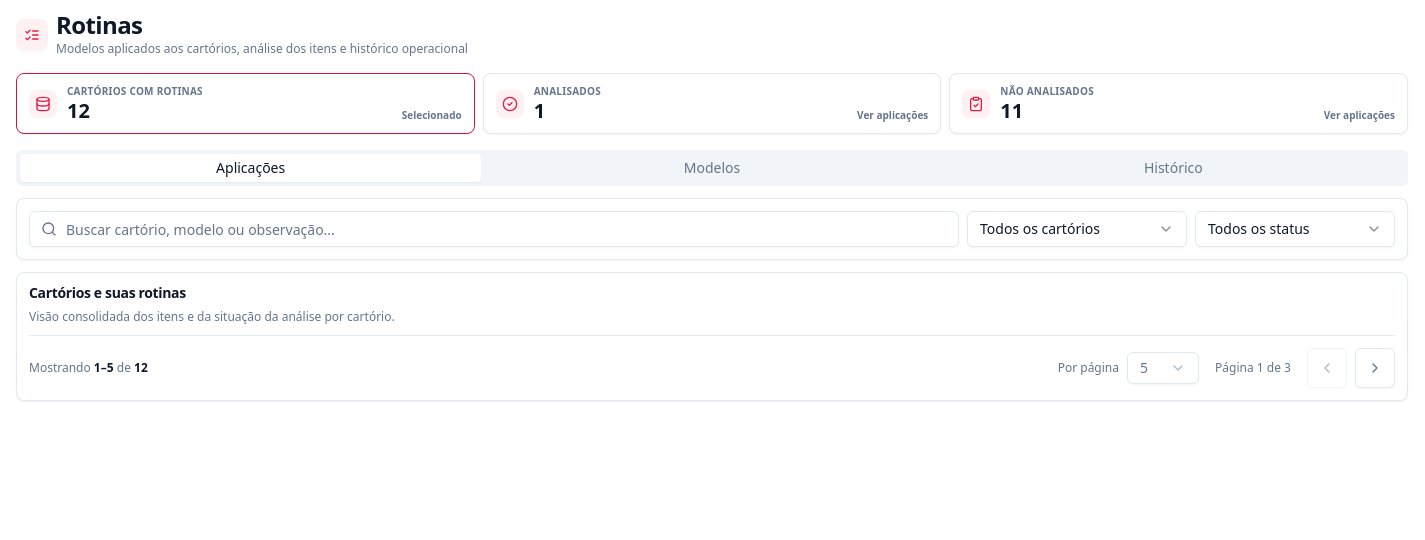
Test: CS/CX rotinas — permissões › abre as aplicações não analisadas pelo card
This screenshot has width=1425, height=540.
Press the mouse on the tab "Modelos" at x=712, y=168, box x1=481 y1=154 x2=943 y2=182
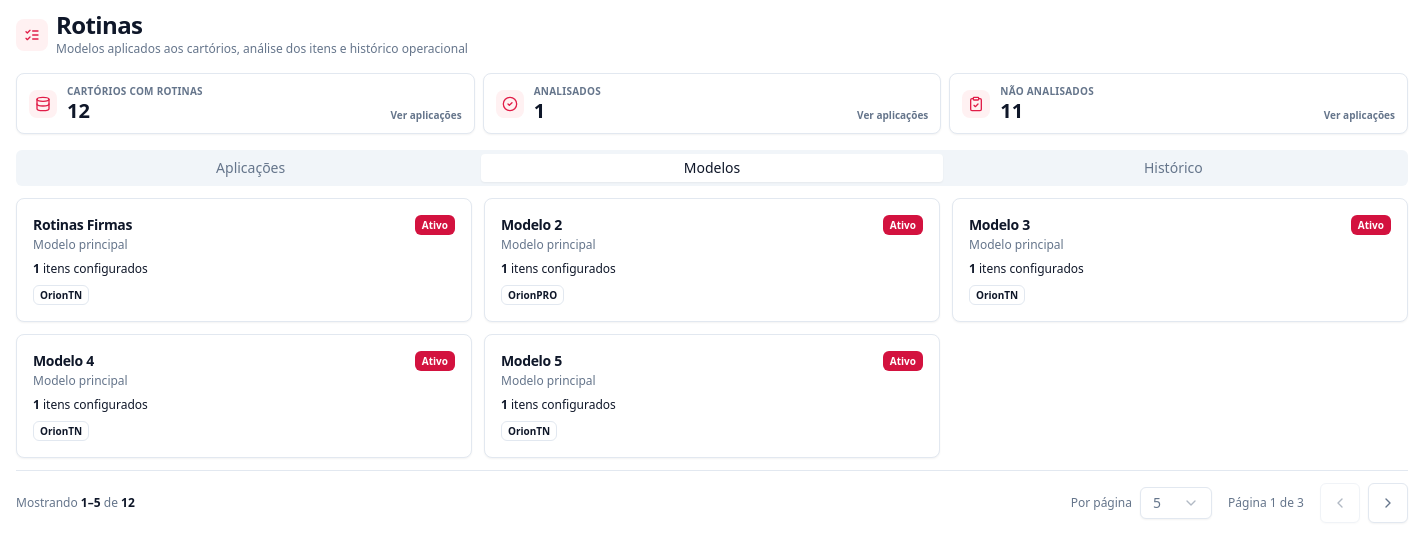
Click the button "Não analisados 11 Ver aplicações" at x=1047, y=91, box x1=950 y1=74 x2=1407 y2=133
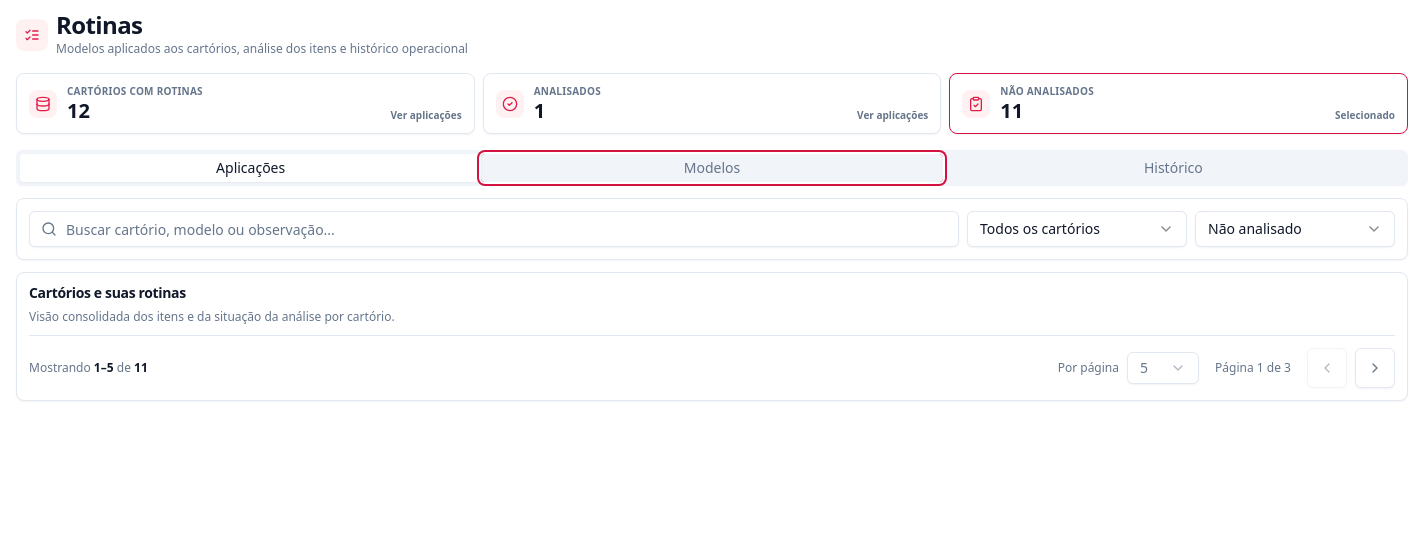
Result: the dropdown named "filtrar por status da aplicação" reads "Não analisado" at x1=1195 y1=211 x2=1395 y2=247
Result: the element named "Mostrando 1 a 5 de 11 cartórios" is shown at x1=29 y1=360 x2=148 y2=376
